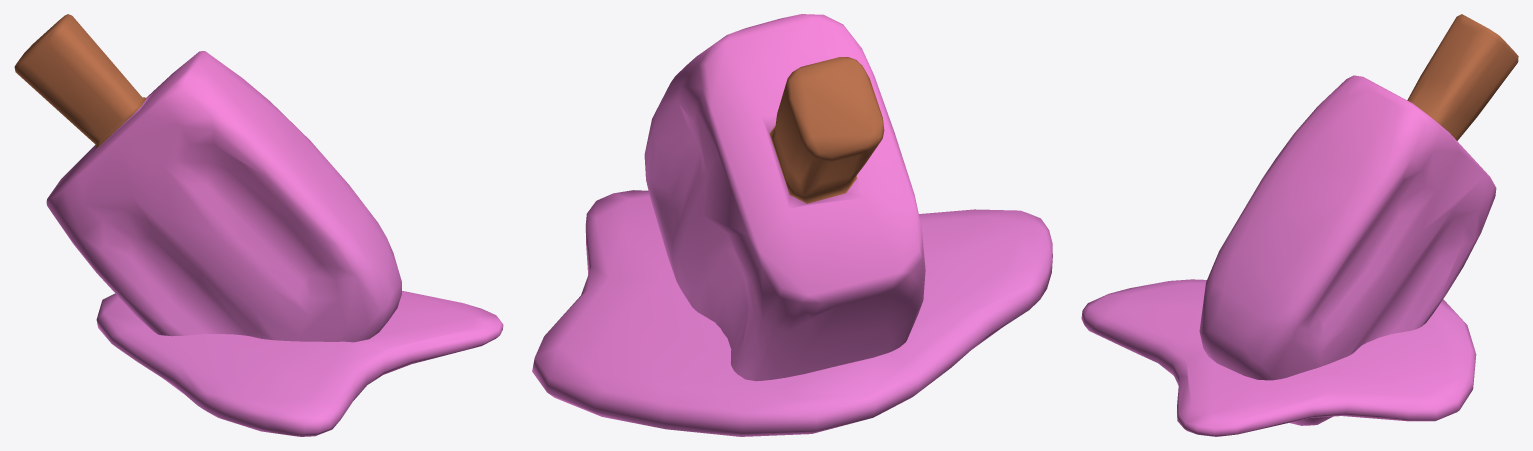
Rendered from gelato_sciolto_rosa_LOD0.fbx.
3 views of the same model, side by side, from view 1: azimuth 30°, elevation 25°; view 2: azimuth 150°, elevation 25°; view 3: azimuth 270°, elevation 25° (orthographic). The views are drawn at different scales.
Parts seen in each view (by area): view 1: Cube_073; view 2: Cube_073; view 3: Cube_073.
Part boxes in pixels (left/top/right/bottom): Cube_073: left=14, top=14, right=503, bottom=436; Cube_073: left=532, top=14, right=1052, bottom=436; Cube_073: left=1081, top=14, right=1518, bottom=436.
Size of the model in its own units: 38.55 by 36.91 by 43.29.
